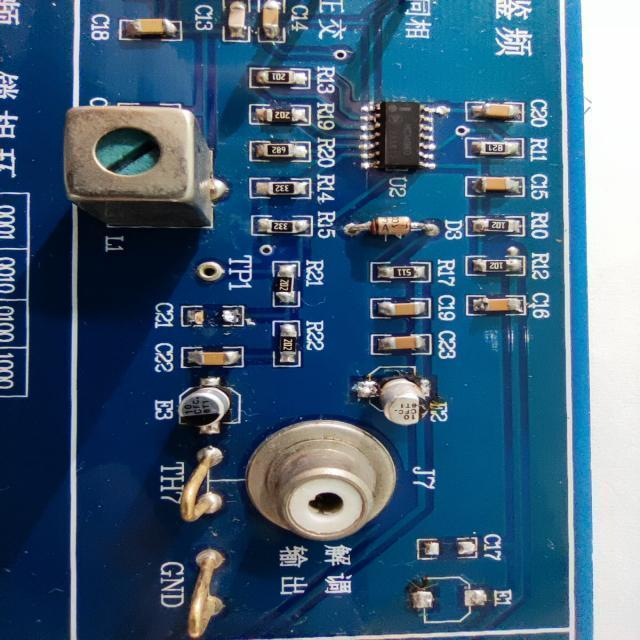Missing component: (400, 571, 516, 628), (401, 530, 510, 567), (151, 293, 250, 331)
